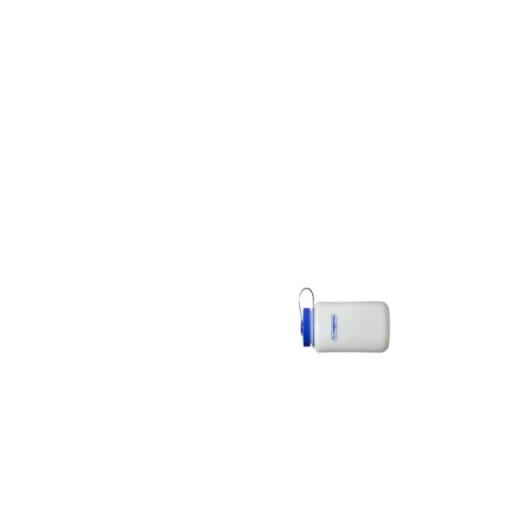bottle: (293, 288, 393, 358)
